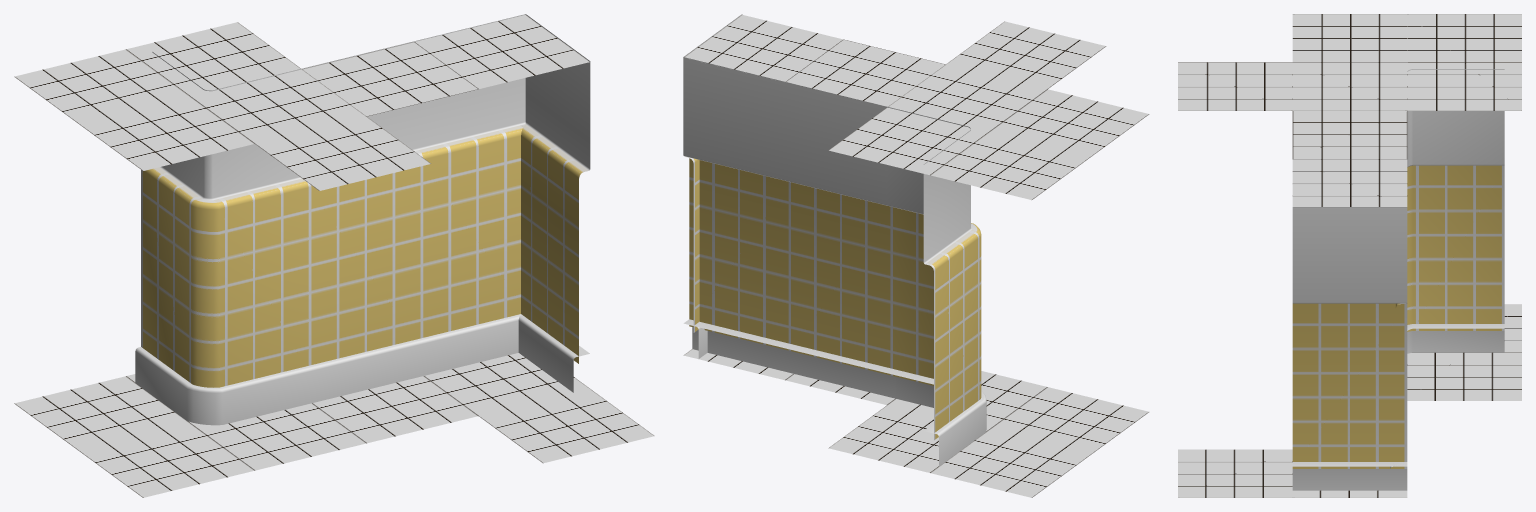
The model's file is ModularBathroom.glb.
The picture shows the model from 3 angles, left to right: view 1: azimuth 30°, elevation 25°; view 2: azimuth 150°, elevation 25°; view 3: azimuth 270°, elevation 25°; orthographic projection. The views are drawn at different scales.
Visible parts, largest first — view 1: wall_urinal_outCorner, wall_urinal_inCorner, wall_urinal_part, floor, roof; view 2: wall_urinal_outCorner, wall_urinal_inCorner, wall_urinal_part, roof; view 3: wall_urinal_outCorner, wall_urinal_inCorner, wall_urinal_part, floor, roof.
Part boxes in pixels (x1,y1,x2,y2): wall_urinal_outCorner: (14,22,366,497); wall_urinal_inCorner: (414,14,590,415); wall_urinal_part: (302,41,478,443); floor: (479,389,654,463); roof: (255,116,430,190); wall_urinal_outCorner: (828,64,1149,497); wall_urinal_inCorner: (683,14,843,380); wall_urinal_part: (785,39,945,404); roof: (946,21,1106,89); wall_urinal_outCorner: (1292,14,1521,400); wall_urinal_inCorner: (1292,159,1407,497); wall_urinal_part: (1292,111,1407,159); floor: (1178,449,1292,497); roof: (1178,62,1292,110).
Bounding box in the file's own units: 4 × 2.8 × 3.
2 materials, 2 textured.
